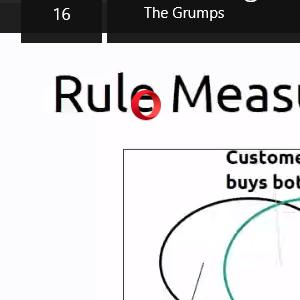opera: (131, 90, 161, 120)
